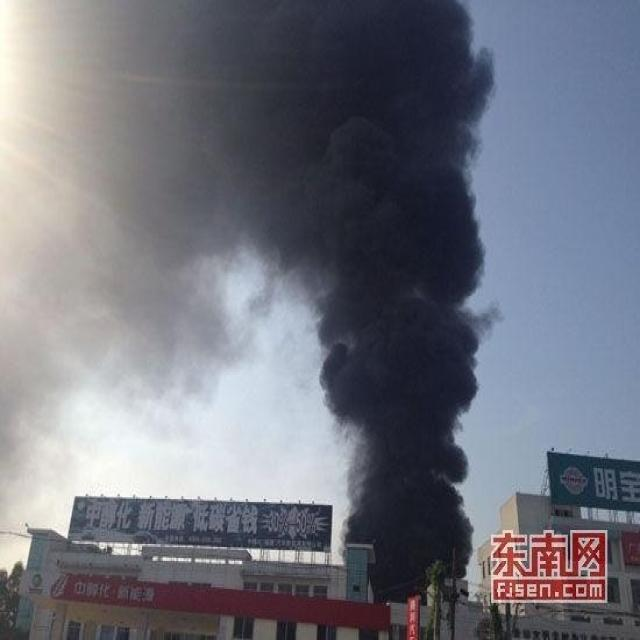Smoke: (1, 2, 503, 604)
